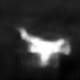plane: (16, 26, 72, 69)
